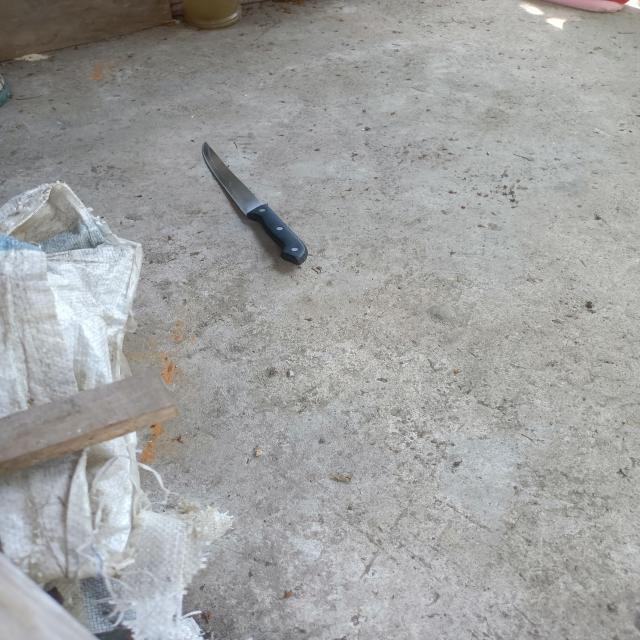knife: (202, 141, 307, 265)
